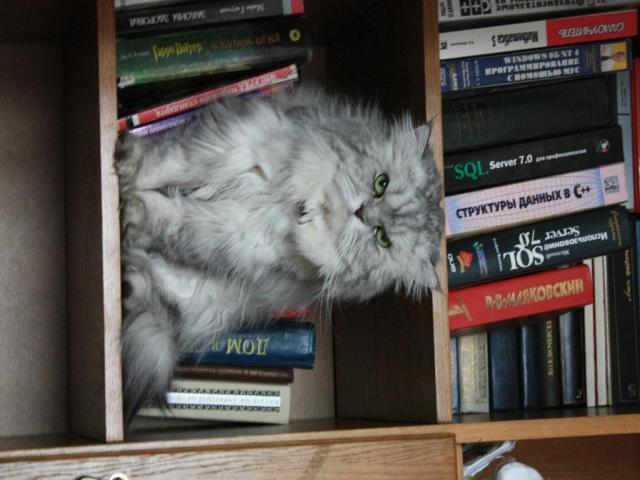Cat: (110, 79, 446, 437)
